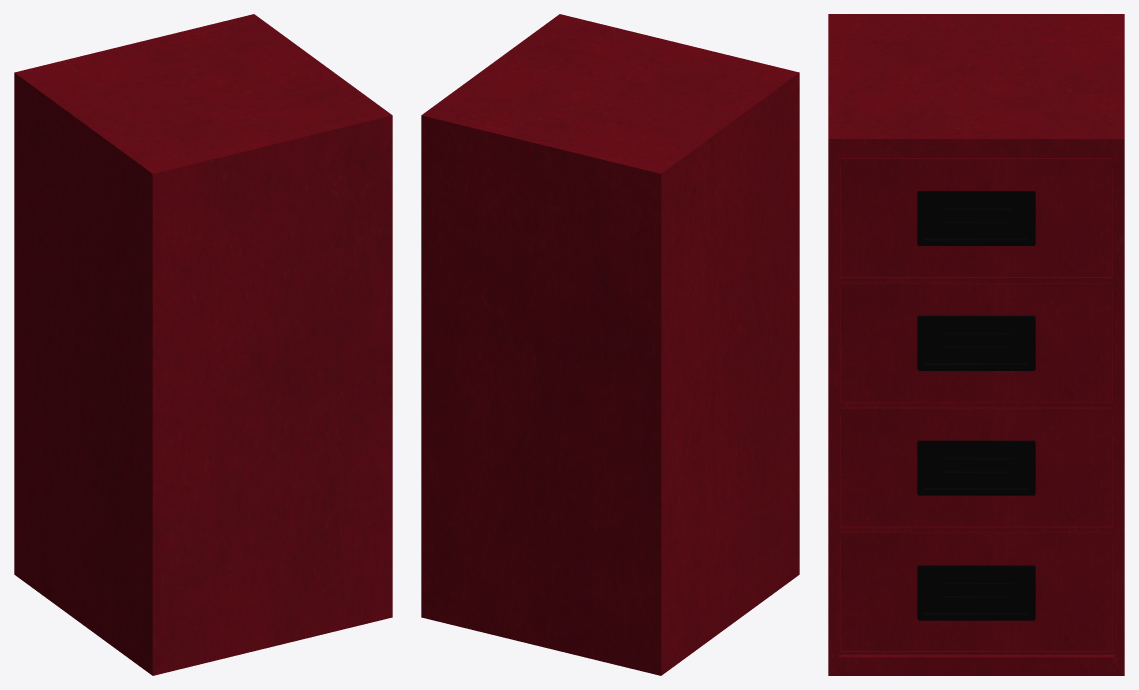
File: red_filing_cabinet.glb
3 views of the same model, side by side, from view 1: azimuth 30°, elevation 25°; view 2: azimuth 150°, elevation 25°; view 3: azimuth 270°, elevation 25° (orthographic). The views are drawn at different scales.
Visible parts, largest first — view 1: red_filing_cabinet; view 2: red_filing_cabinet; view 3: red_filing_cabinet, drawer_2, drawer_1, drawer_3, drawer_4.
Boxes of the visible parts, x1,y1,x2,y2 form: red_filing_cabinet: [14, 14, 392, 675]; red_filing_cabinet: [421, 14, 799, 675]; red_filing_cabinet: [828, 14, 1124, 675]; drawer_2: [840, 407, 1112, 526]; drawer_1: [840, 532, 1112, 651]; drawer_3: [840, 283, 1112, 401]; drawer_4: [840, 158, 1112, 276].
Bounding box in the file's own units: 0.5 × 1 × 0.5.
2 materials, 2 textured.
